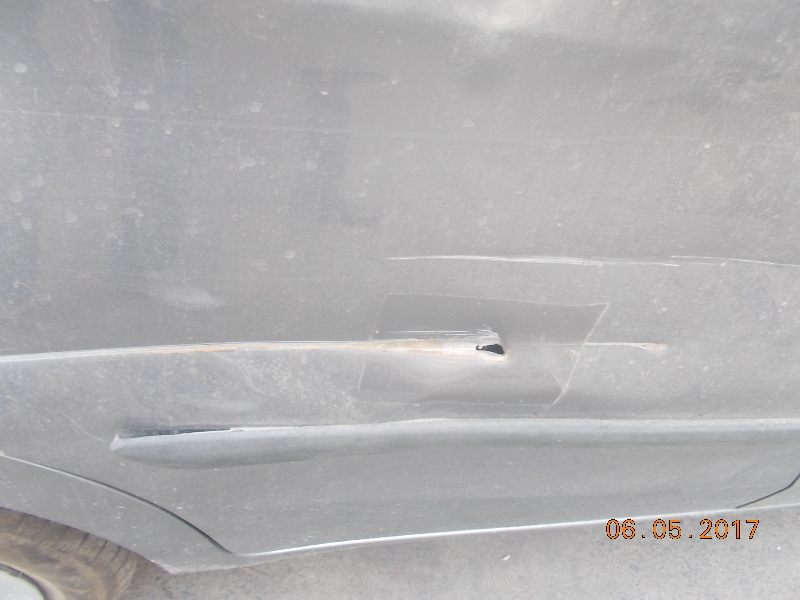Dent: (8, 325, 455, 384)
Tear: (478, 339, 514, 363)
